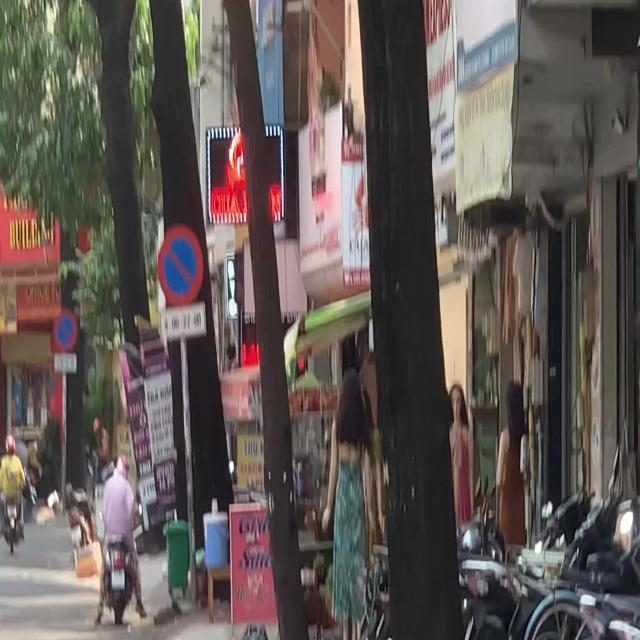Cam do: (159, 222, 199, 306), (55, 309, 77, 349)
